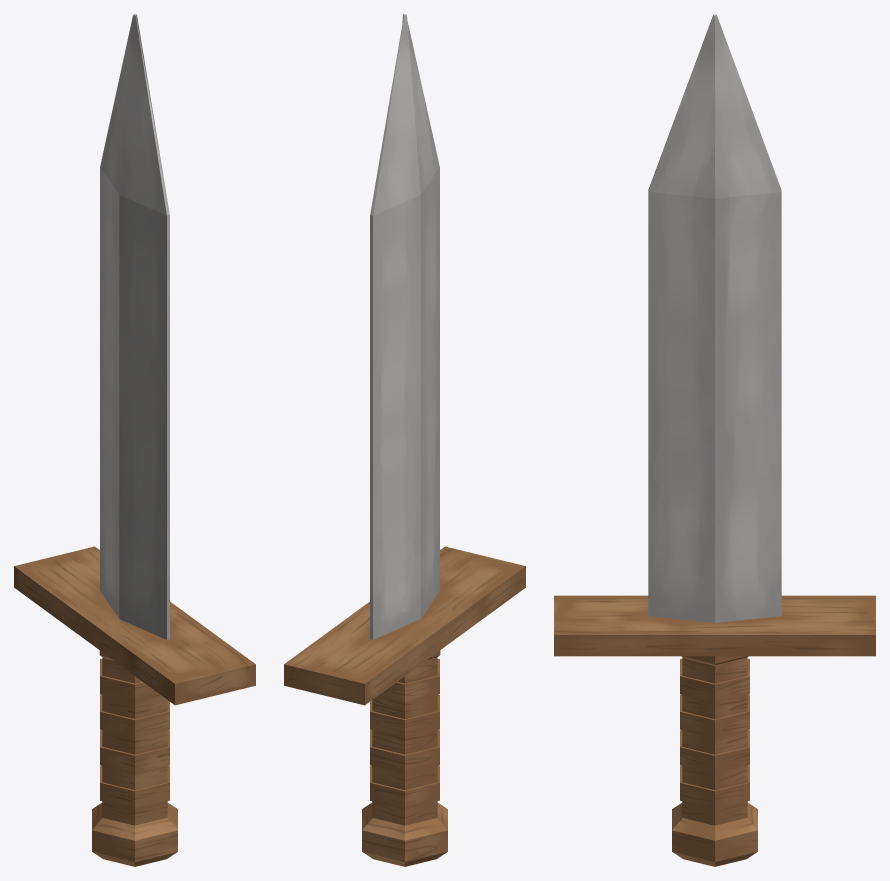
File: LowPolySword.fbx
3 renders of one model, left to right at view 1: azimuth 30°, elevation 25°; view 2: azimuth 150°, elevation 25°; view 3: azimuth 270°, elevation 25°, orthographic.
Parts seen in each view (by area): view 1: Cube; view 2: Cube; view 3: Cube.
Part boxes in pixels (x1,y1,x2,y2): Cube: (14, 14, 255, 866); Cube: (284, 14, 525, 866); Cube: (554, 14, 875, 866).
Size of the model in its own units: 213 by 1978 by 690.
